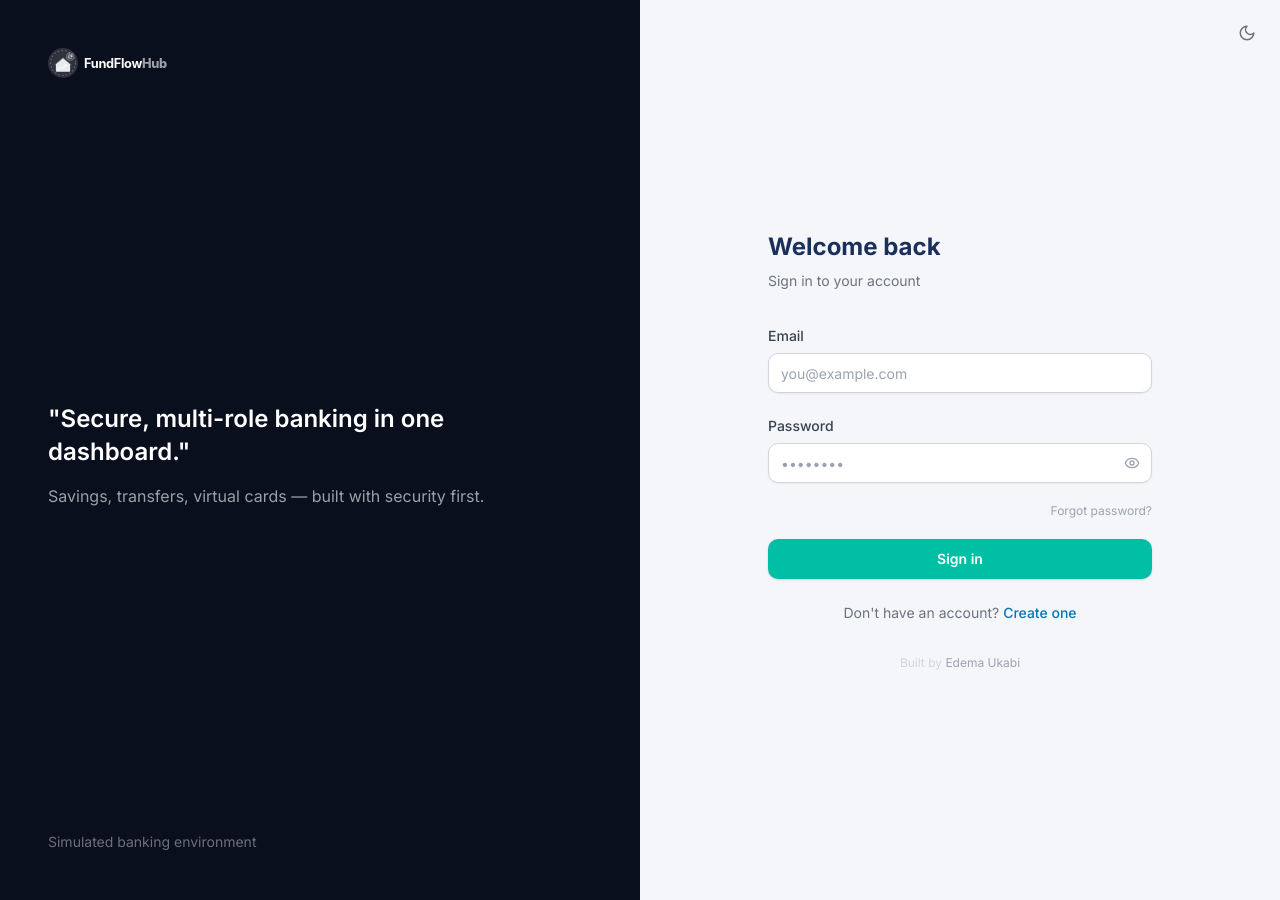
Test: LoginPage › displays server error on failed login
This screenshot has width=1280, height=900.
In the field labelled "Email": x=960, y=373 [768,353,1152,393], type "bad@example.com"
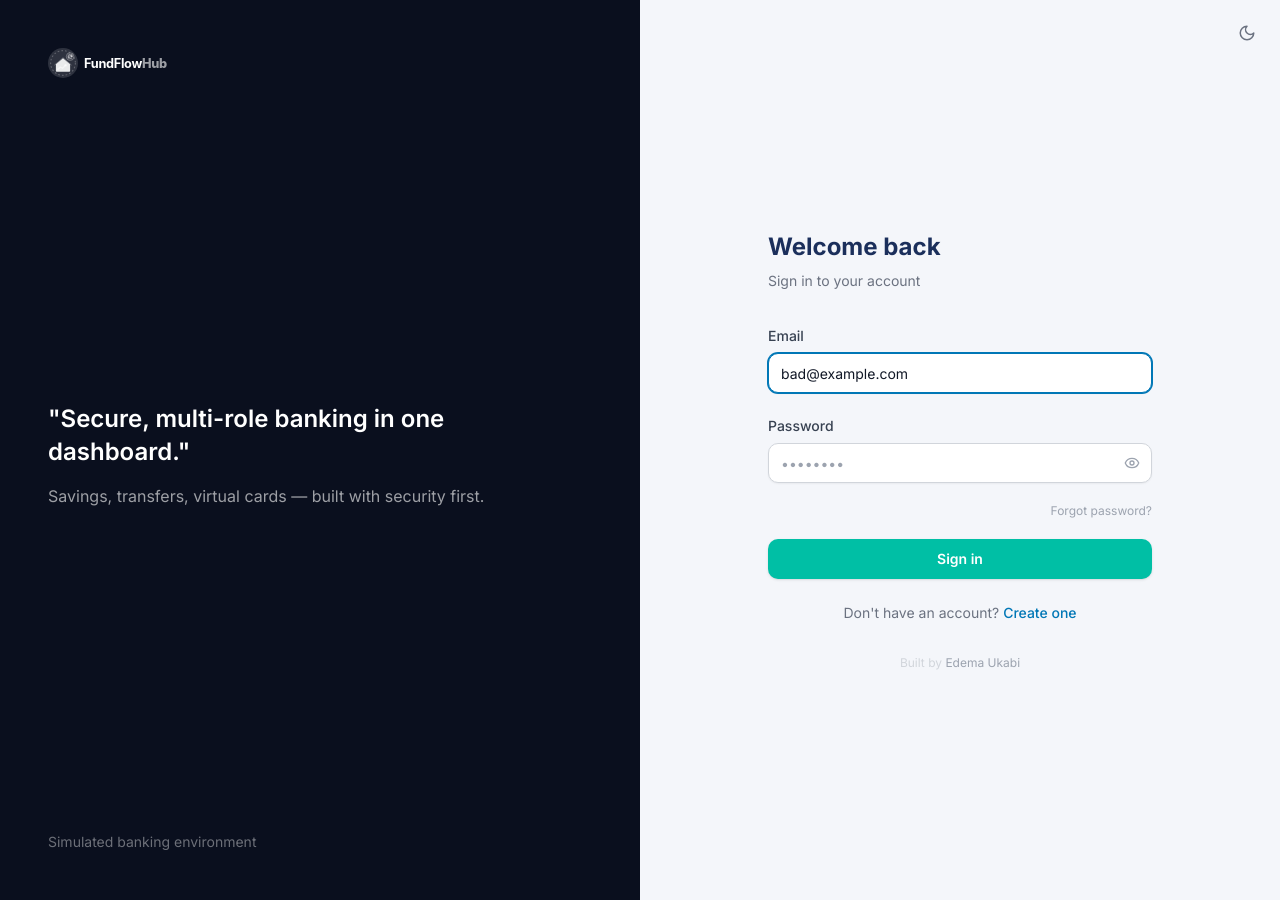
In the password field labelled "Password": x=960, y=463 [768,443,1152,483], type "wrongpass"
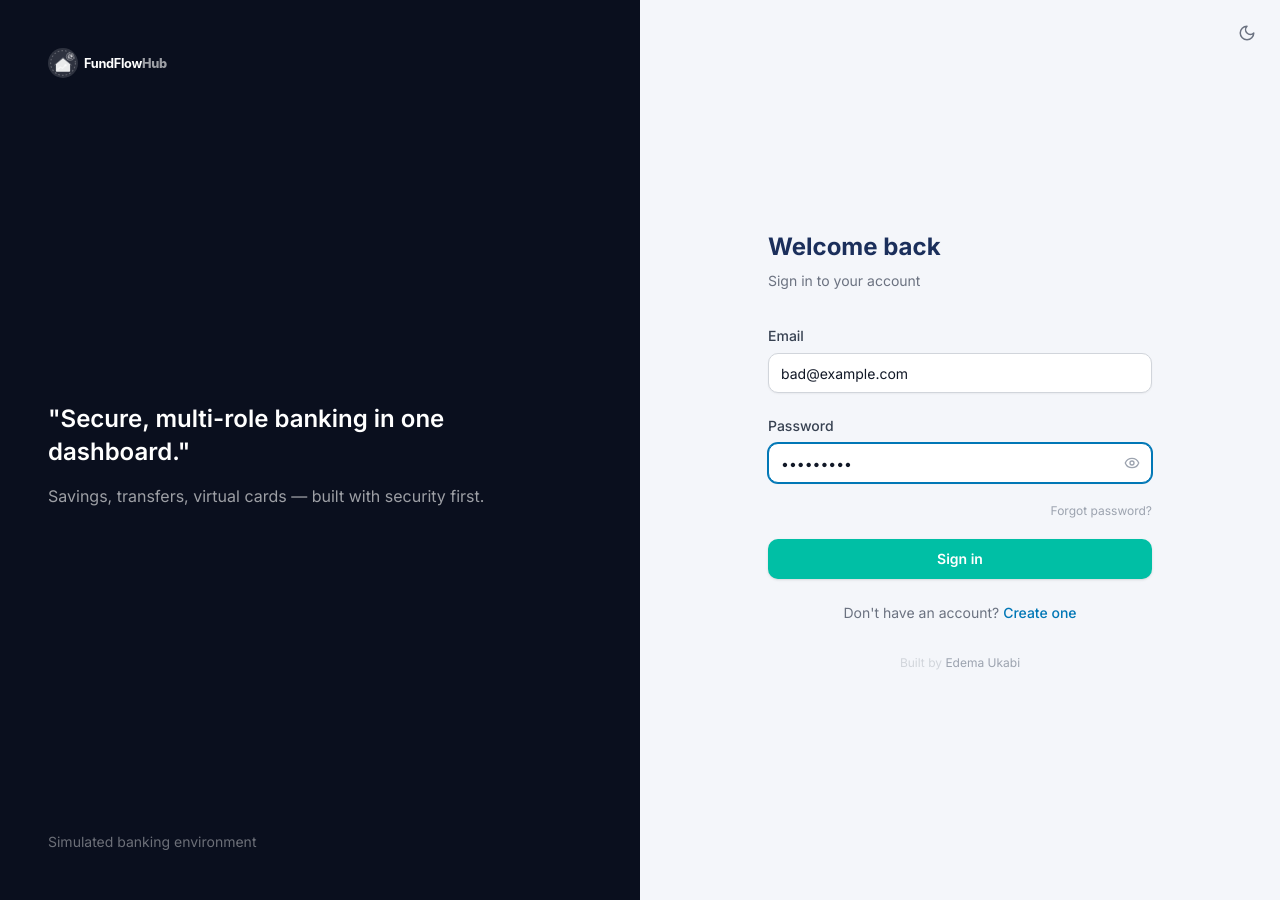
Click the button "Sign in": x=960, y=559 [768,539,1152,579]
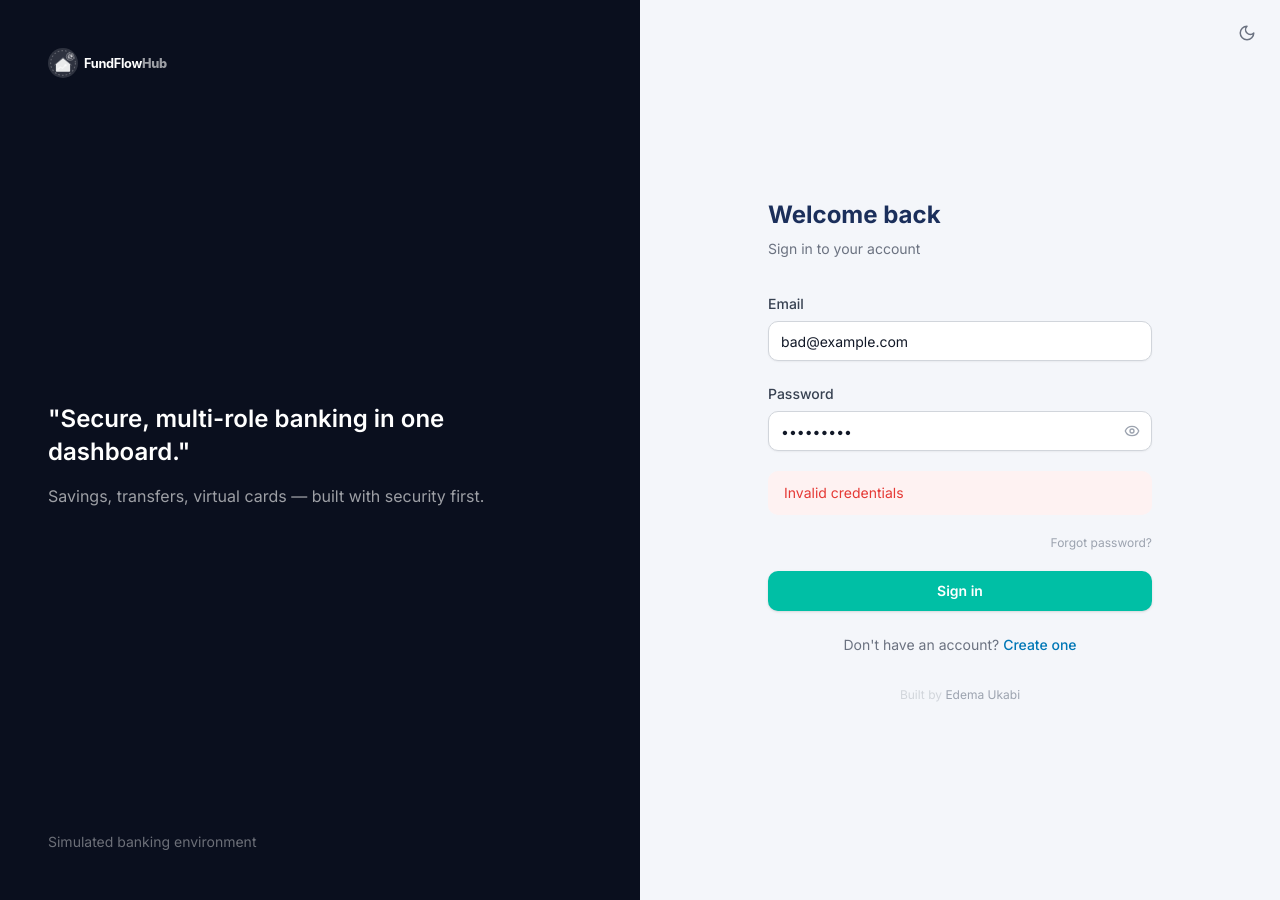
Expected: the text "Invalid credentials" is shown, [768,471,1152,515]
